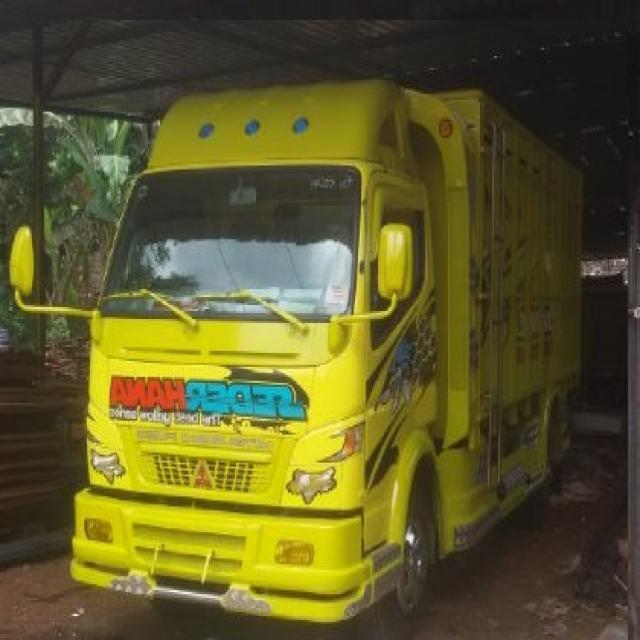truck: (15, 83, 578, 624)
